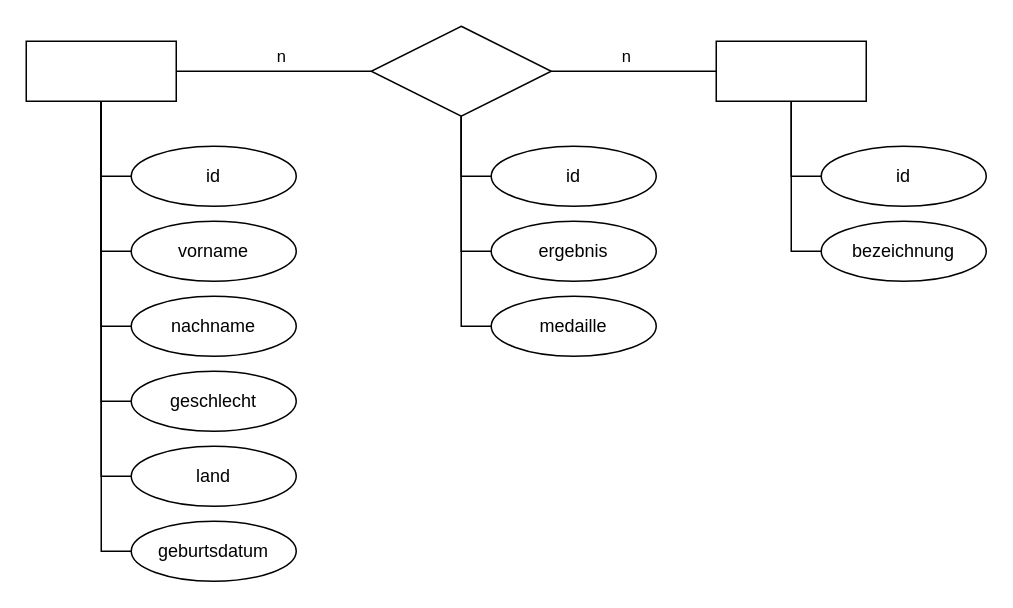
This 1013x608 diagram has some shape labels left out. The shapes that lost their labels are listed below. From the top down, each one's centre as x and y in pixels, then its label:
[100,70]: Athlet
[460,70]: nimmt teil an
[790,70]: Sportart
